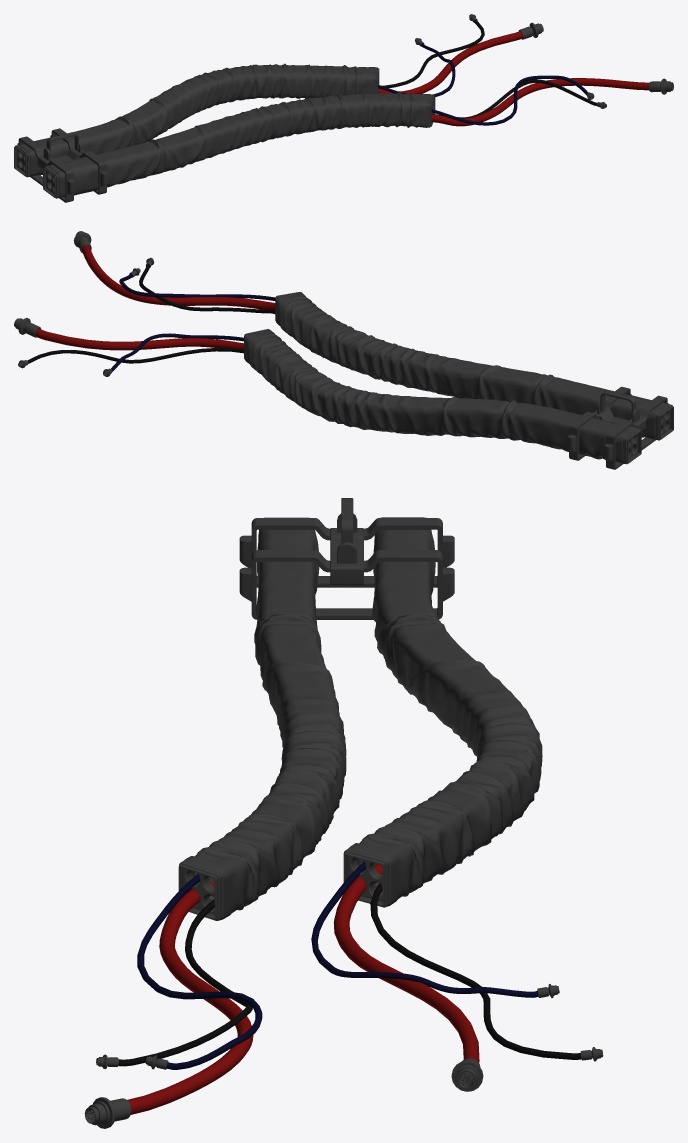
File: SM_Wire02_LineStyle01.FBX
3 renders of one model, top to bottom at view 1: azimuth 30°, elevation 25°; view 2: azimuth 150°, elevation 25°; view 3: azimuth 270°, elevation 25°, orthographic. The views are drawn at different scales.
Visible parts, largest first — view 1: SM_Wire02_LineStyle01; view 2: SM_Wire02_LineStyle01; view 3: SM_Wire02_LineStyle01.
Part boxes in pixels (bbox=[...]): SM_Wire02_LineStyle01: bbox=[14, 14, 673, 202]; SM_Wire02_LineStyle01: bbox=[14, 231, 673, 469]; SM_Wire02_LineStyle01: bbox=[84, 498, 603, 1128].
Bounding box in the file's own units: 311 × 121 × 23.74.
